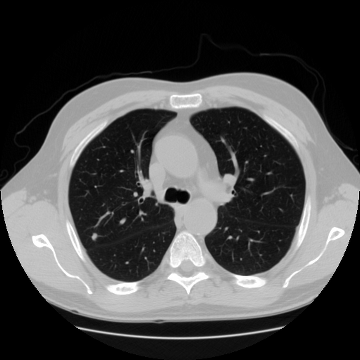nodule: (90, 233, 98, 241)
